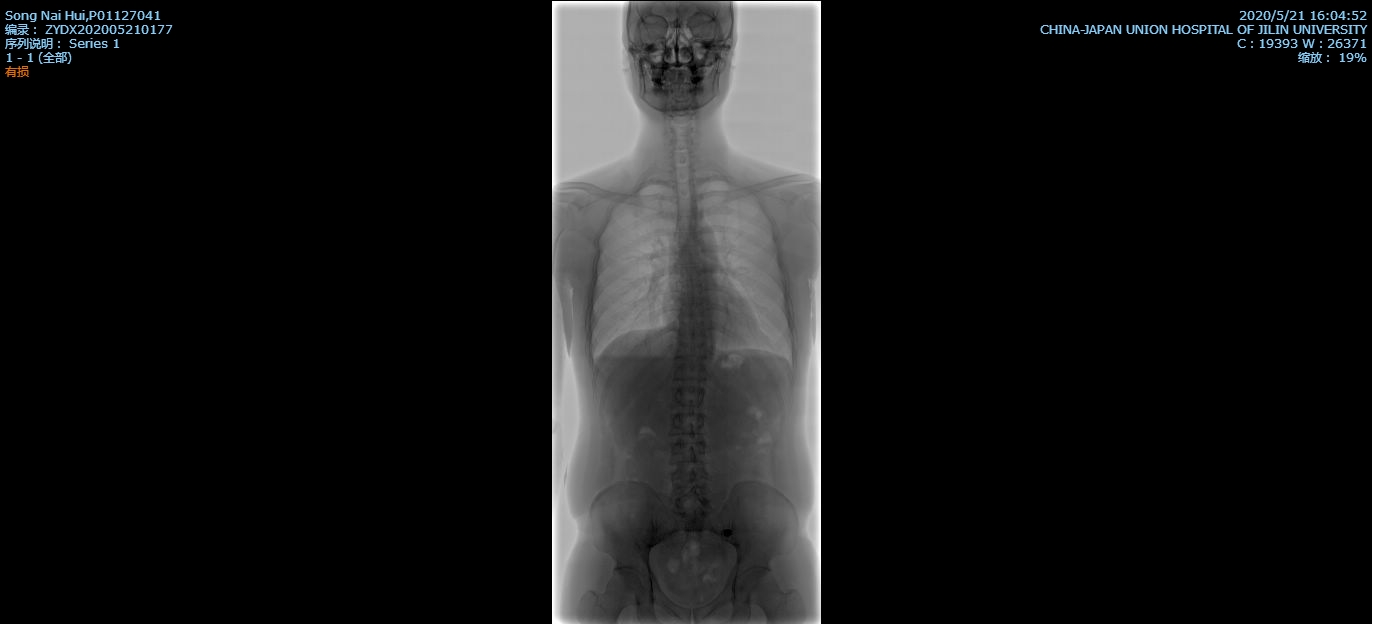Bone: (670, 412, 703, 434), (675, 494, 709, 514), (673, 386, 704, 407), (673, 468, 706, 487), (675, 361, 705, 380), (673, 442, 706, 459), (676, 341, 707, 356), (679, 319, 706, 335), (681, 301, 704, 317), (683, 284, 702, 298)
